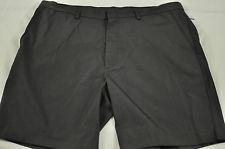C_shorts: (2, 1, 225, 148)
